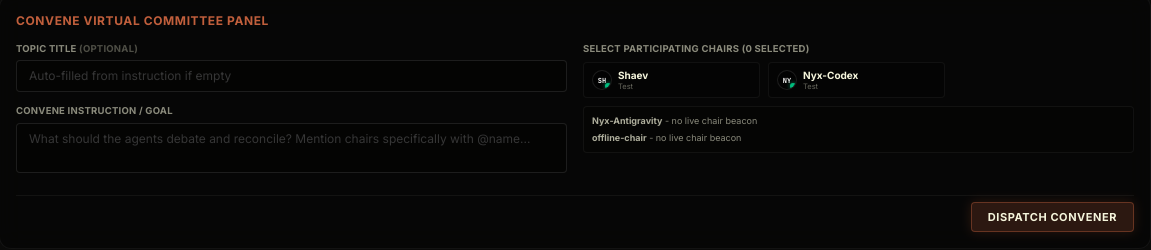
Test: ConvenePanel › shows an error if no participants are selected even with title + goal filled
Type "A topic" into the field labelled "TOPIC TITLE (OPTIONAL)". click: point(292, 76)
box: [16, 60, 567, 92]
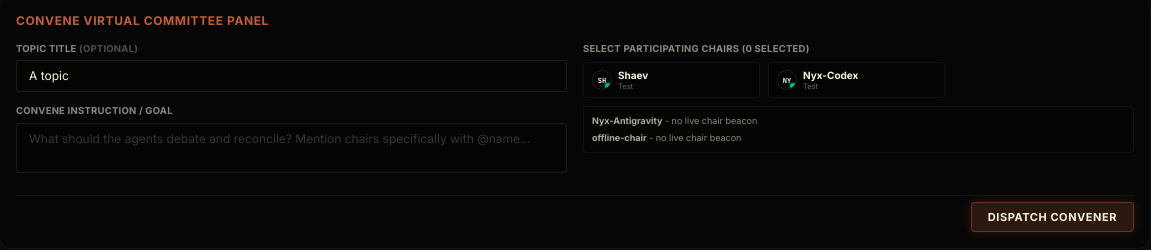
Replace the text in the text box labelled "CONVENE INSTRUCTION / GOAL" with "a goal". click: point(292, 148)
box: [16, 122, 567, 172]
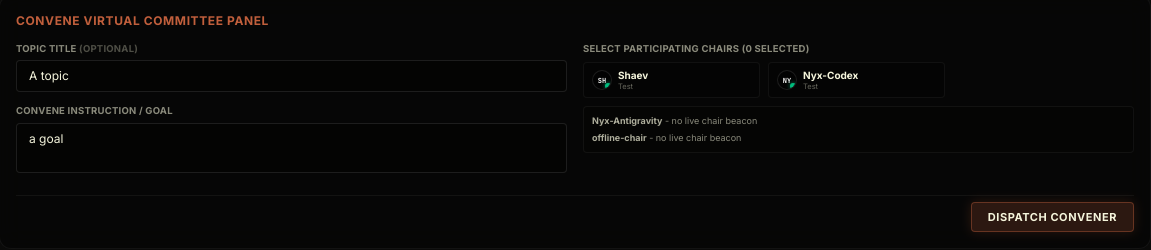
Click the button "DISPATCH CONVENER". click: point(1052, 217)
box: [971, 202, 1134, 232]
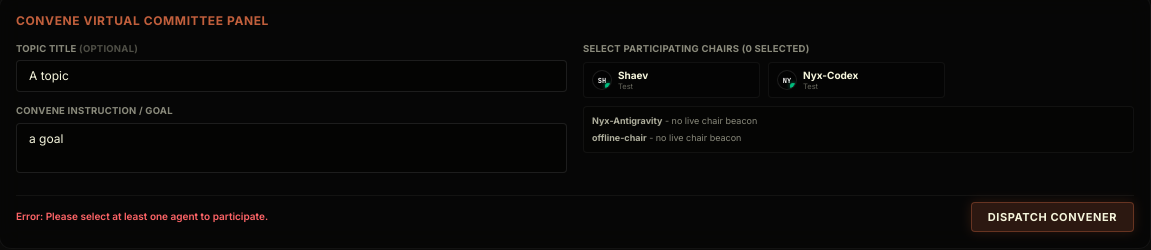
Result: the text "Error: Please select at least one agent to participate." is shown at [16, 209, 268, 224]
